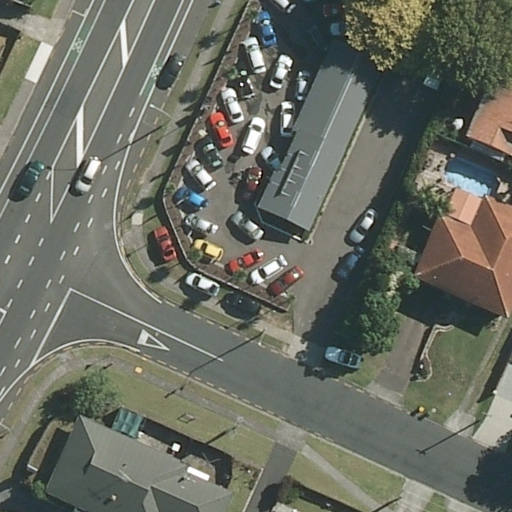DT: (226, 422, 243, 447), (477, 409, 493, 430)
